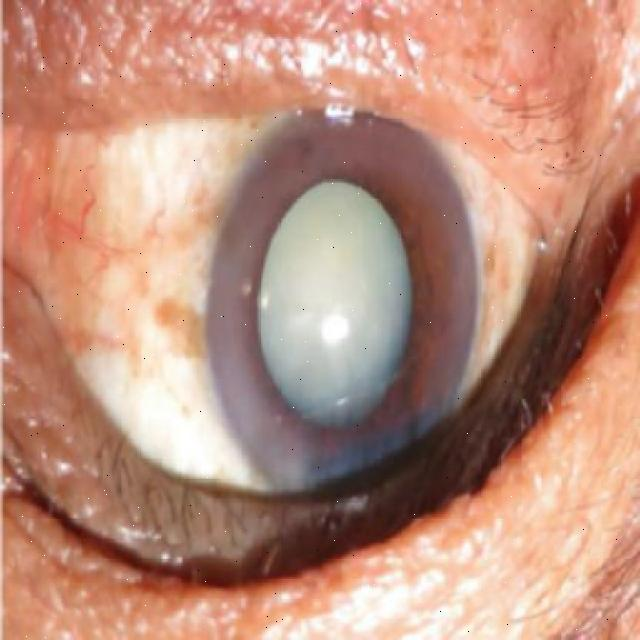Cataract: (208, 105, 474, 499)
